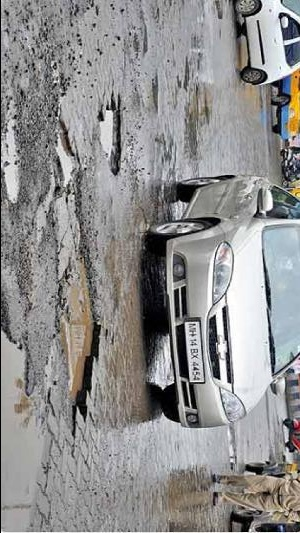pothole: (45, 117, 104, 434), (0, 271, 45, 532), (94, 91, 125, 177), (1, 108, 20, 203)
